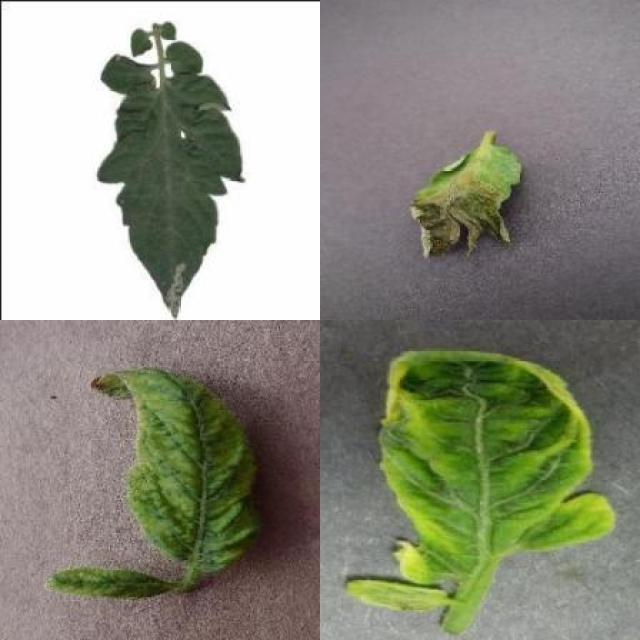Late Blight: (411, 141, 522, 262)
Leaf Miner: (90, 71, 244, 320)
Yellow Leaf Curl Virus: (379, 347, 617, 583), (90, 368, 259, 575), (42, 566, 172, 604), (344, 576, 452, 618)
